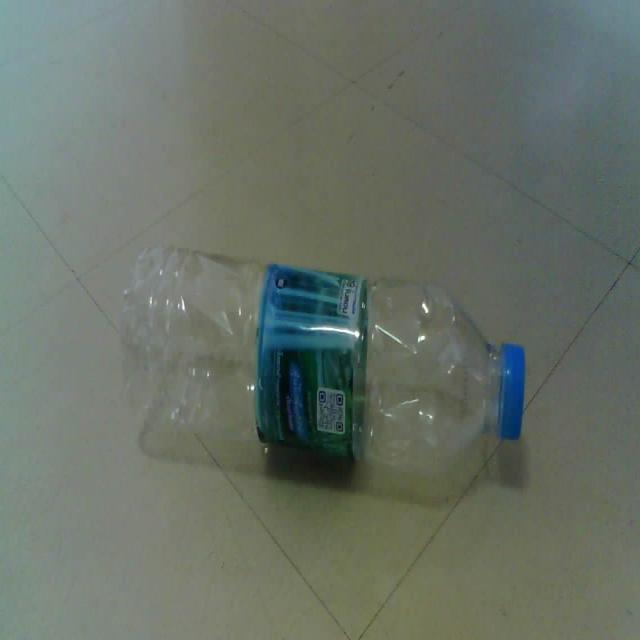empty: (122, 248, 525, 475)
